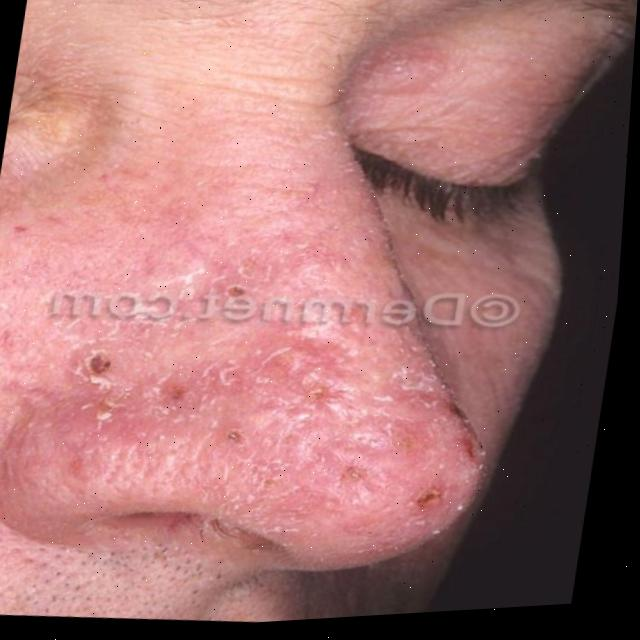Rosacea: (41, 250, 511, 552)
